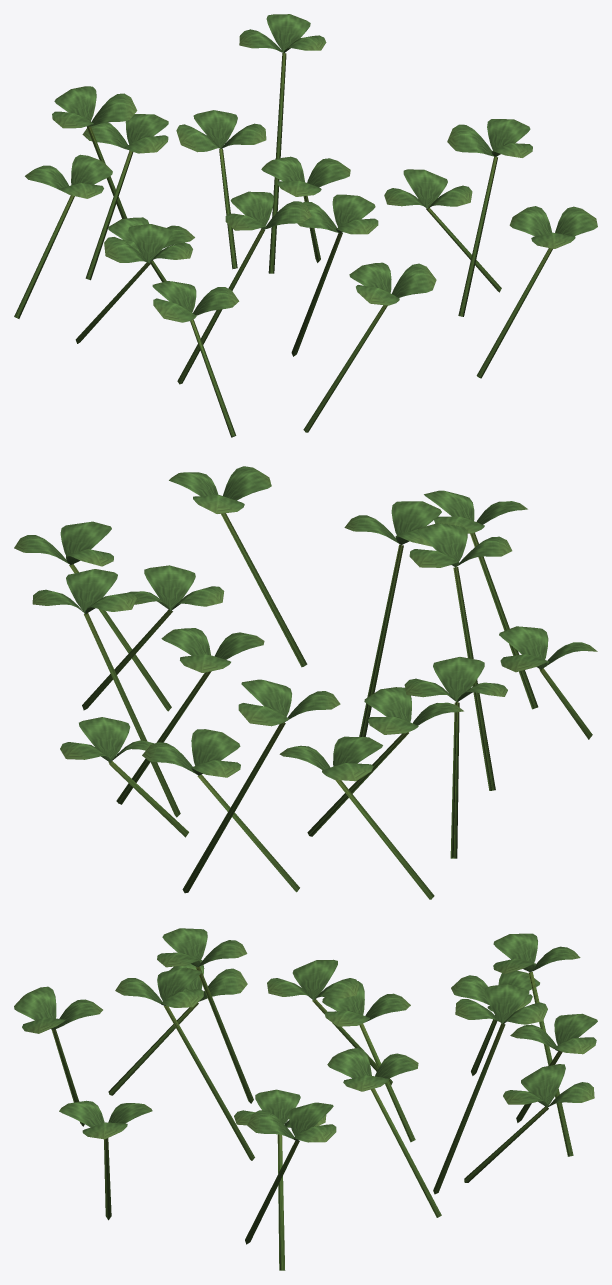
The model's file is WhiteClover_B.fbx.
3 renders of one model, top to bottom at view 1: azimuth 30°, elevation 25°; view 2: azimuth 150°, elevation 25°; view 3: azimuth 270°, elevation 25°, orthographic. The views are drawn at different scales.
Visible parts, largest first — view 1: WhiteClover_B_LOD0; view 2: WhiteClover_B_LOD0; view 3: WhiteClover_B_LOD0.
Part boxes in pixels (x1,y1,x2,y2): WhiteClover_B_LOD0: (14,14,597,437); WhiteClover_B_LOD0: (14,466,597,899); WhiteClover_B_LOD0: (14,928,597,1270).
Size of what is drawn, in the model's own units: 22.57 by 10.49 by 25.48.
1 material, 1 textured.
